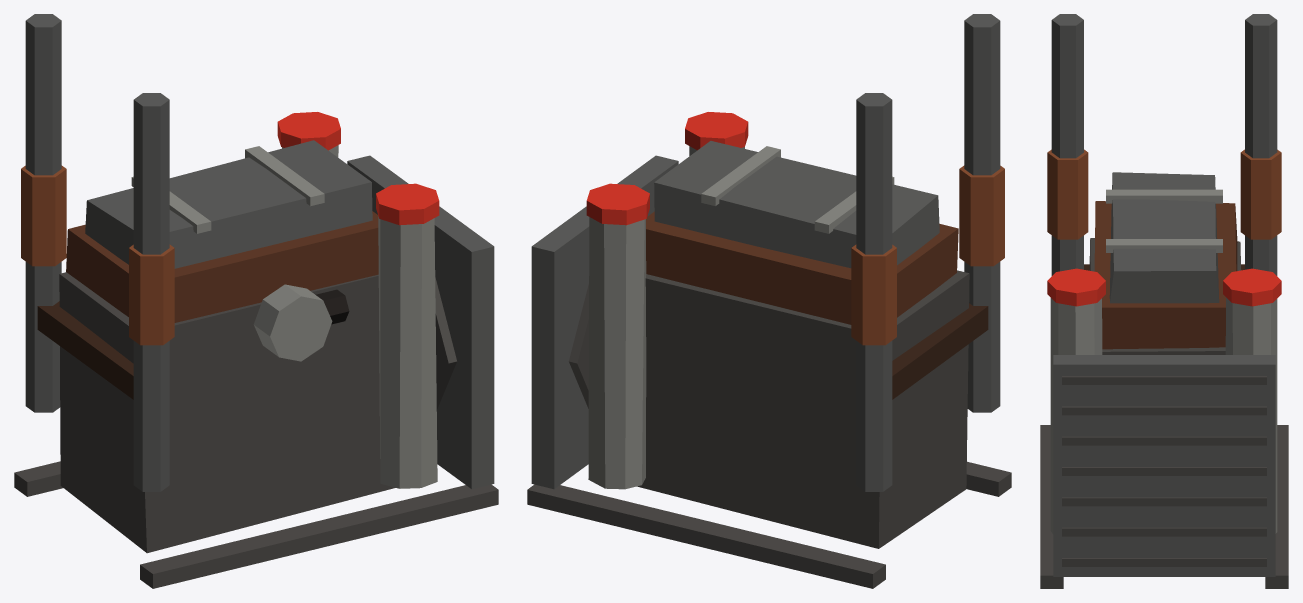
The model's file is eng_heavy_diesel.glb.
3 views of the same model, side by side, from view 1: azimuth 30°, elevation 25°; view 2: azimuth 150°, elevation 25°; view 3: azimuth 270°, elevation 25° (orthographic). The views are drawn at different scales.
Parts seen in each view (by area): view 1: eng_heavy_diesel; view 2: eng_heavy_diesel; view 3: eng_heavy_diesel.
Part boxes in pixels (<box>): eng_heavy_diesel: <box>14,14,498,588</box>; eng_heavy_diesel: <box>527,14,1011,588</box>; eng_heavy_diesel: <box>1040,14,1288,588</box>.
Bounding box in the file's own units: 1.25 × 1.6 × 0.848.
